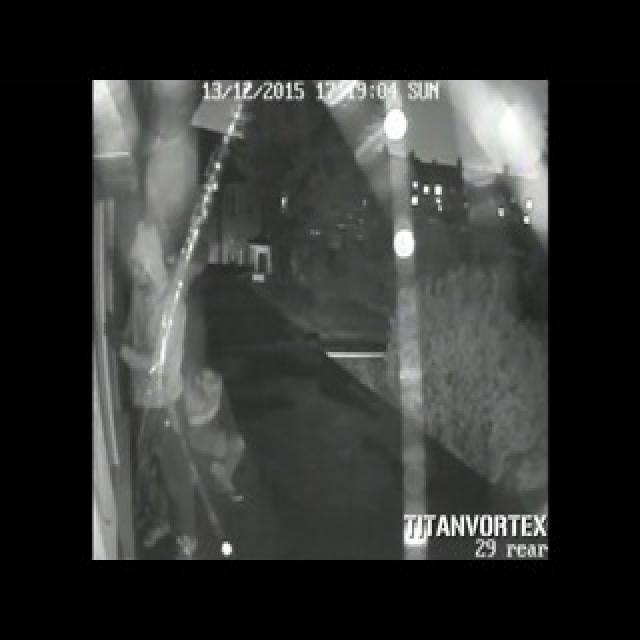thief: (120, 222, 170, 303), (182, 354, 235, 419), (170, 226, 214, 303)
